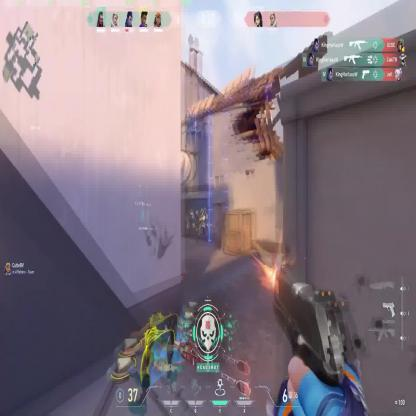enemy: (198, 207, 208, 241)
enemy_head: (200, 208, 204, 216)
